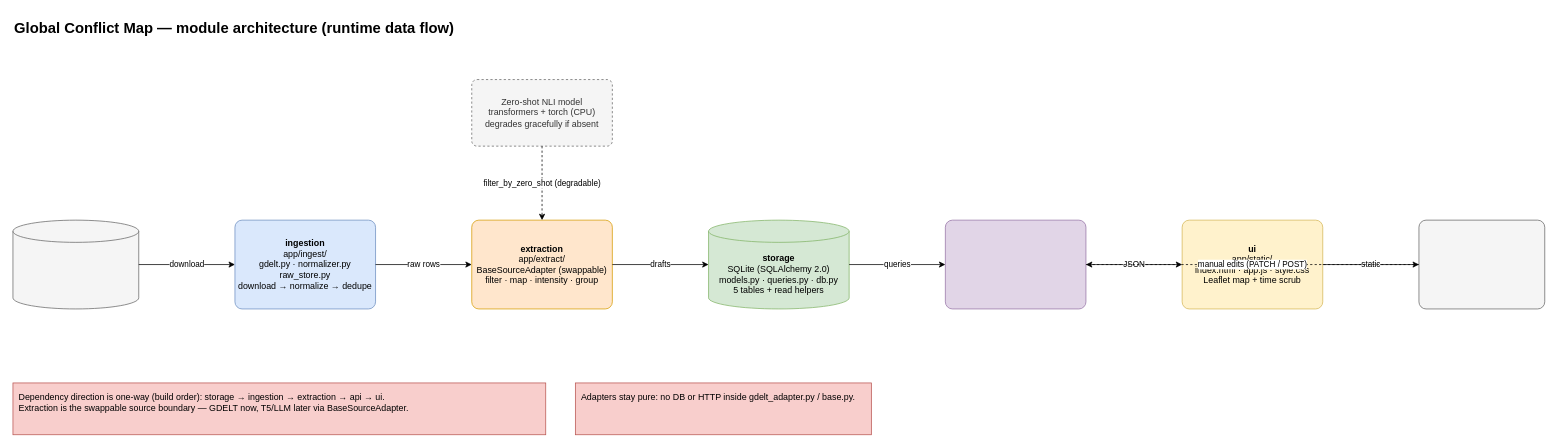
This 1558x448 diagram has some shape labels left out. The centre of each missing label's shape, as x and y in pixels:
"api app/api/ routes.py · schemas.py FastAPI /api/* manual edit / create" goes at pixel 1015 264.
"Browser Leaflet + OSM tiles no build step" goes at pixel 1481 264.
"GDELT 2.0 15-min .export.CSV.zip 61-col TSV, no header" goes at pixel 75 264.
